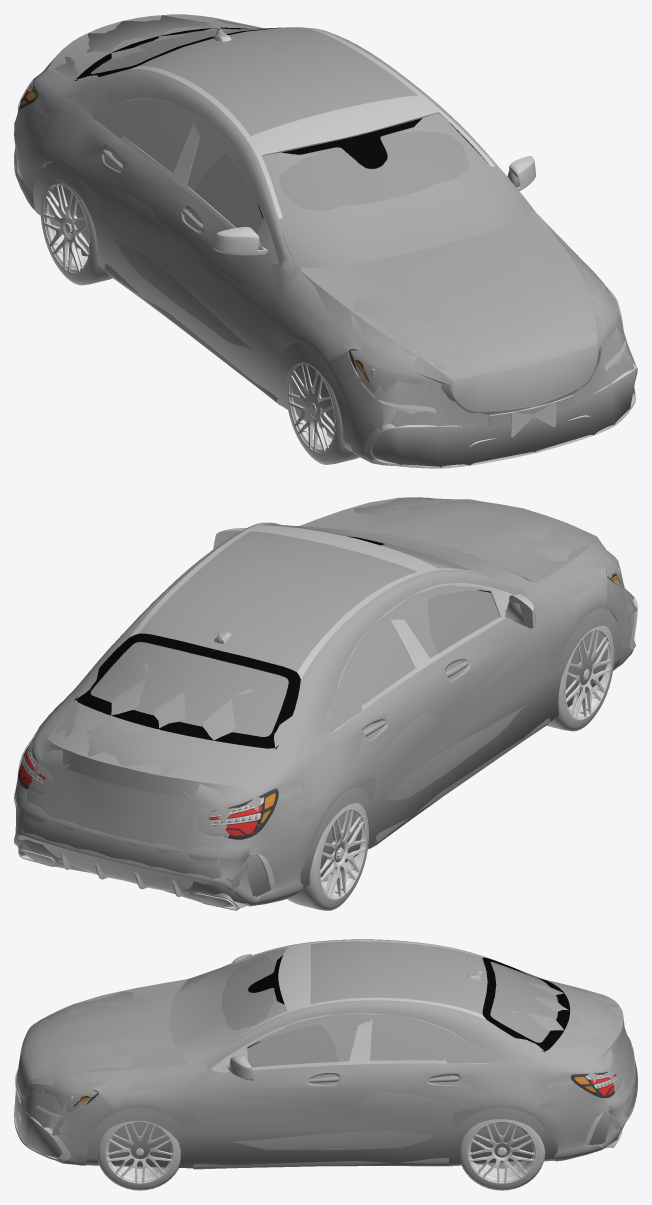
File: CivilianVehicle05.FBX
The picture shows the model from 3 angles, top to bottom: view 1: azimuth 30°, elevation 25°; view 2: azimuth 150°, elevation 25°; view 3: azimuth 270°, elevation 25°; orthographic projection. The views are drawn at different scales.
Visible parts, largest first — view 1: CivilianVehicle05_Col, Paint_LOD0, Body_LOD0, Windows_LOD0, WheelRearRight_LOD0, WheelFrontRight_LOD0, PlateFrontTypeUSA_LOD0, PlateFrontTypeEU_LOD0; view 2: Paint_LOD0, CivilianVehicle05_Col, Windows_LOD0, Body_LOD0, WheelRearRight_LOD0, WheelFrontRight_LOD0, Light_LOD0, ReverseLight_LOD0, BrakeLights_LOD0; view 3: Paint_LOD0, CivilianVehicle05_Col, Windows_LOD0, Body_LOD0, WheelRearLeft_LOD0, WheelFrontLeft_LOD0, Light_LOD0.
Boxes of the visible parts, <box> form: CivilianVehicle05_Col: <box>16,15,636,467</box>; Paint_LOD0: <box>14,14,634,465</box>; Body_LOD0: <box>14,27,637,468</box>; Windows_LOD0: <box>17,27,623,392</box>; WheelRearRight_LOD0: <box>40,179,112,285</box>; WheelFrontRight_LOD0: <box>285,362,359,464</box>; PlateFrontTypeUSA_LOD0: <box>510,402,556,437</box>; PlateFrontTypeEU_LOD0: <box>488,395,573,426</box>; Paint_LOD0: <box>14,497,634,906</box>; CivilianVehicle05_Col: <box>15,497,637,907</box>; Windows_LOD0: <box>17,525,623,839</box>; Body_LOD0: <box>14,522,637,910</box>; WheelRearRight_LOD0: <box>287,803,368,910</box>; WheelFrontRight_LOD0: <box>546,625,614,731</box>; Light_LOD0: <box>18,568,620,839</box>; ReverseLight_LOD0: <box>21,742,262,824</box>; BrakeLights_LOD0: <box>20,749,262,834</box>; Paint_LOD0: <box>16,939,637,1169</box>; CivilianVehicle05_Col: <box>14,948,637,1168</box>; Windows_LOD0: <box>39,956,621,1112</box>; Body_LOD0: <box>14,940,621,1161</box>; WheelRearLeft_LOD0: <box>459,1119,545,1190</box>; WheelFrontLeft_LOD0: <box>98,1121,180,1190</box>; Light_LOD0: <box>70,1072,615,1107</box>.
Size of what is drawn, in the model's own units: 79.54 by 56.8 by 182.
